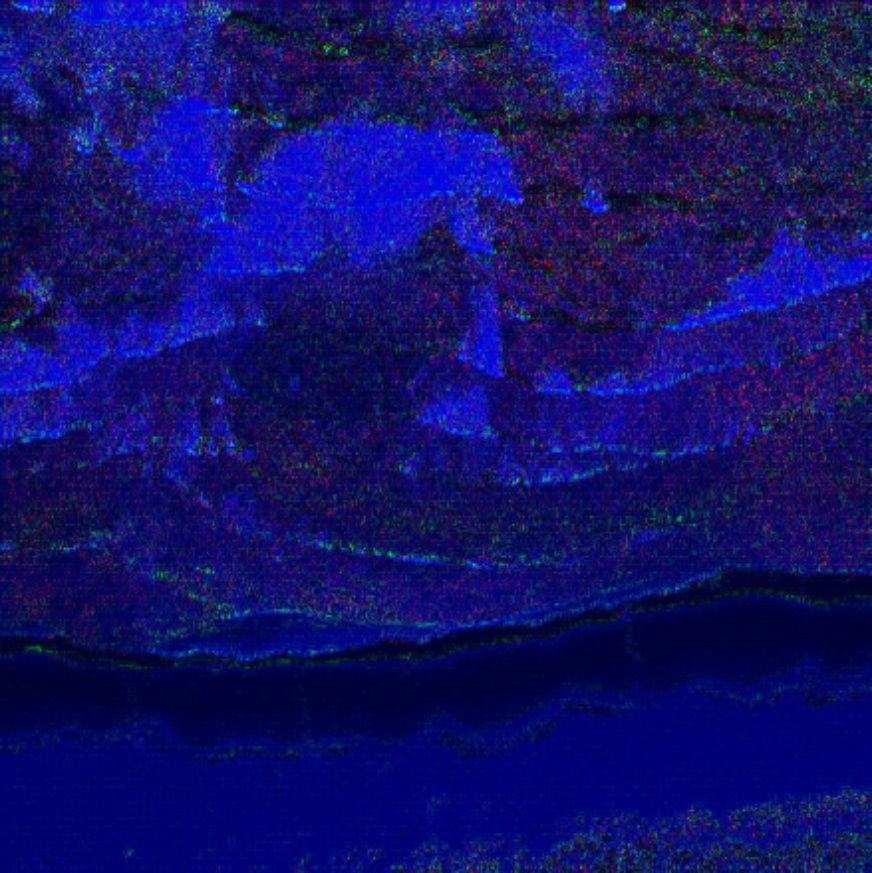rip_current: (205, 107, 672, 552)
